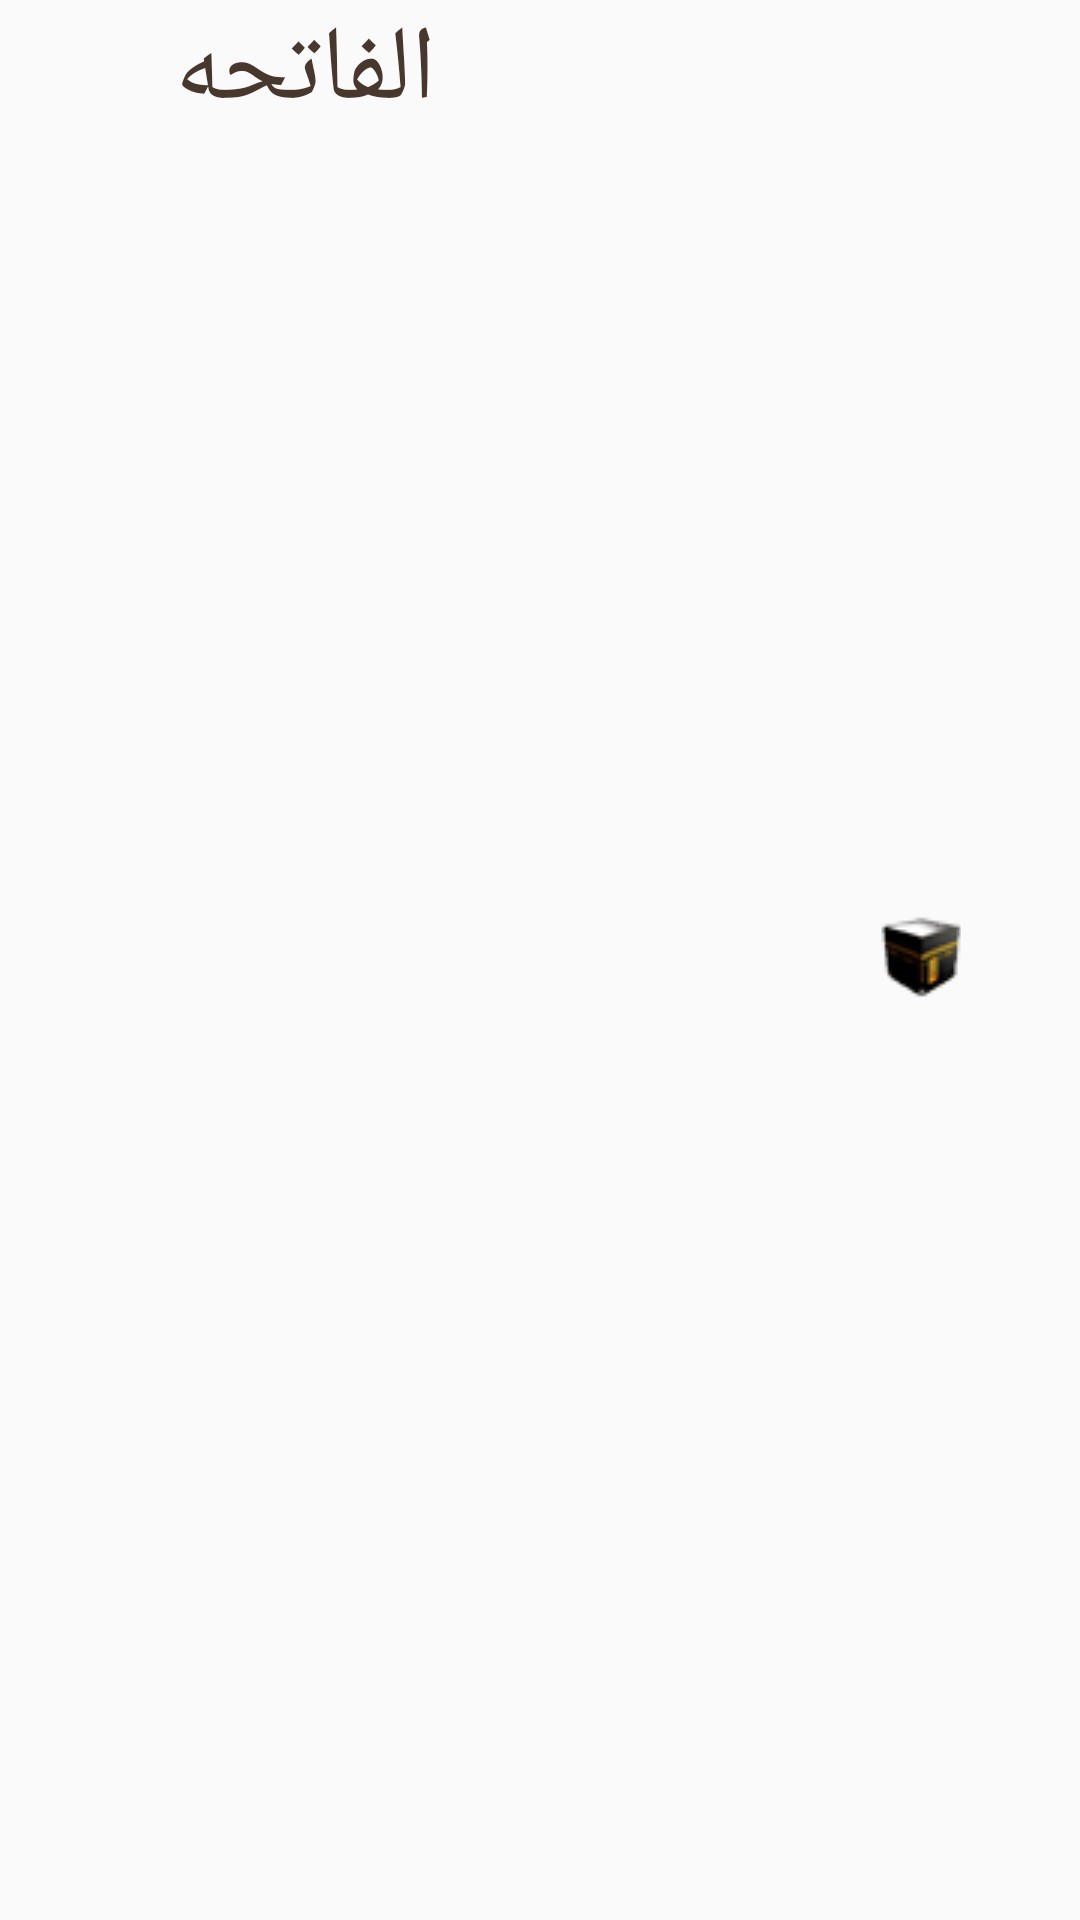

Icons on this 1080px x 1920px Android screen, each with its box as {"left": x1, "top": y1, "right": x2, "bottom": y2}:
makka: {"left": 881, "top": 918, "right": 961, "bottom": 997}
